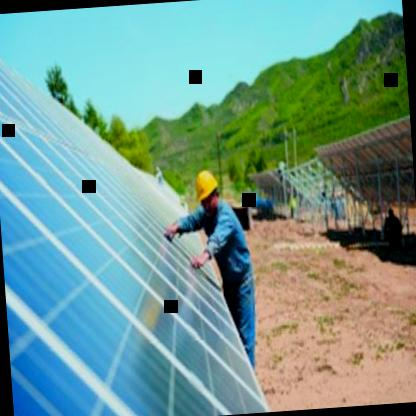helmet: (192, 167, 223, 213)
